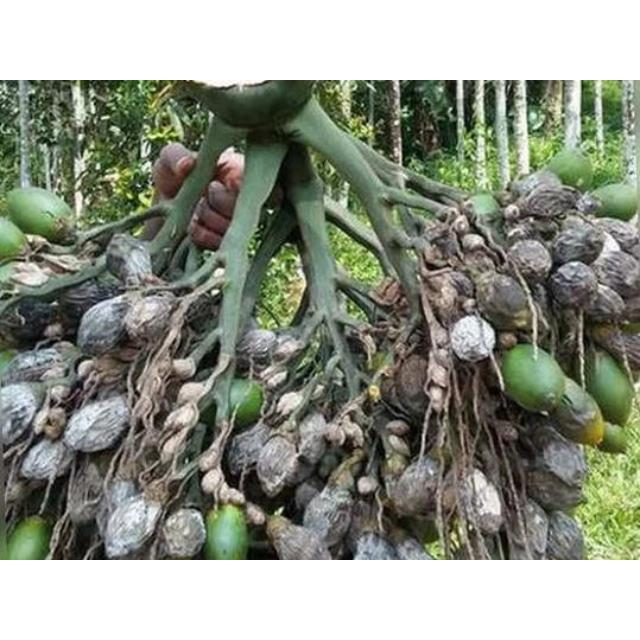damaged: (524, 431, 588, 507), (502, 344, 564, 414), (584, 348, 632, 427), (302, 476, 354, 546), (550, 378, 604, 444), (76, 298, 130, 356), (237, 328, 303, 374), (66, 459, 108, 529), (589, 250, 639, 308), (19, 434, 75, 484), (590, 324, 640, 378), (256, 434, 302, 492), (482, 274, 534, 324), (2, 383, 42, 447), (105, 234, 153, 286), (126, 294, 174, 346), (428, 268, 474, 322), (160, 508, 208, 558), (320, 406, 368, 456), (8, 298, 60, 344), (551, 225, 605, 269), (449, 314, 497, 362), (226, 427, 272, 477), (550, 262, 600, 308), (102, 478, 146, 530), (544, 146, 594, 188), (542, 510, 584, 560), (514, 502, 550, 560), (6, 515, 52, 559), (274, 520, 324, 560), (59, 279, 114, 315), (506, 240, 552, 282), (588, 183, 638, 221), (242, 468, 284, 512), (296, 409, 330, 461), (524, 418, 568, 458), (182, 290, 220, 336), (32, 394, 70, 440), (340, 326, 376, 374), (345, 510, 381, 556), (228, 380, 264, 426), (594, 218, 640, 252), (194, 197, 234, 236), (509, 217, 556, 249), (462, 238, 500, 274), (528, 280, 552, 336), (512, 172, 558, 200), (49, 341, 83, 375), (18, 487, 52, 521), (86, 448, 118, 484), (190, 220, 227, 250), (236, 315, 268, 349), (432, 228, 463, 262), (293, 481, 323, 515), (266, 514, 294, 550), (166, 404, 198, 434), (160, 428, 190, 460), (4, 476, 36, 506), (426, 438, 454, 472), (563, 343, 587, 381), (96, 373, 128, 401), (467, 192, 501, 218), (85, 228, 118, 254), (275, 391, 305, 419), (316, 450, 344, 480), (412, 518, 442, 546), (488, 417, 520, 443), (1, 262, 26, 294), (138, 214, 166, 242), (176, 382, 208, 406), (247, 524, 269, 558), (372, 348, 396, 379), (374, 278, 402, 304), (382, 452, 410, 478), (428, 318, 450, 350), (438, 484, 460, 516), (92, 266, 121, 290), (200, 468, 224, 496), (264, 182, 286, 212), (574, 195, 602, 218), (197, 447, 221, 473), (422, 243, 448, 267), (218, 485, 246, 507), (198, 398, 218, 428), (428, 362, 449, 390), (387, 434, 411, 458), (245, 504, 268, 528), (172, 357, 196, 379), (322, 424, 346, 446), (462, 232, 486, 254), (384, 419, 412, 436), (356, 476, 379, 496), (49, 384, 71, 404), (506, 225, 530, 243), (1, 518, 11, 560), (483, 542, 505, 560), (504, 204, 520, 222), (368, 385, 380, 403)
